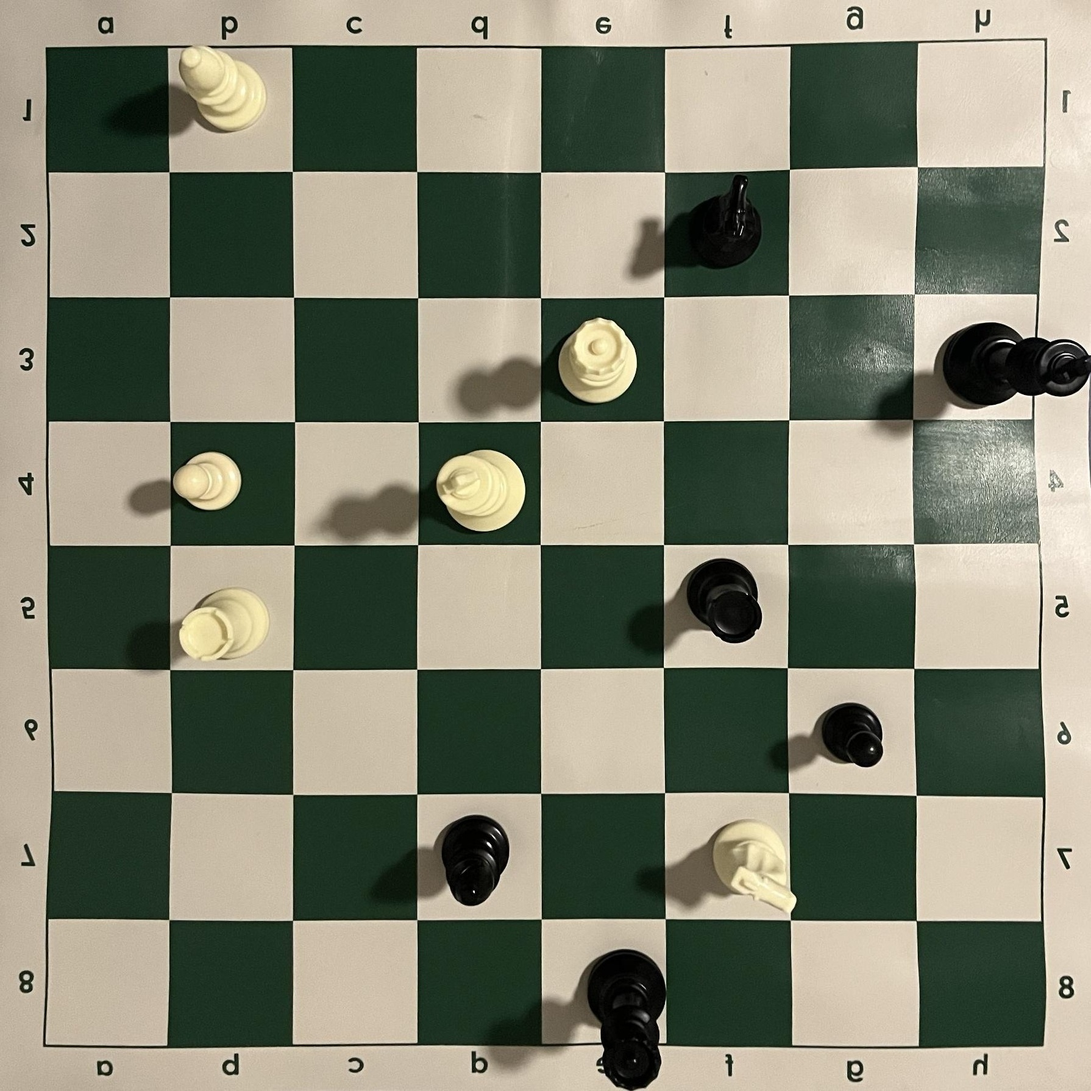black_bishop: (441, 813, 511, 908)
black_king: (944, 321, 1090, 406)
black_knight: (688, 173, 762, 271)
black_pawn: (821, 702, 884, 769)
black_queen: (585, 947, 668, 1090)
black_rook: (684, 557, 764, 644)
white_bishop: (177, 44, 268, 133)
white_king: (435, 448, 526, 533)
white_knight: (711, 818, 797, 917)
white_pawn: (172, 452, 242, 511)
white_queen: (558, 317, 639, 405)
white_rook: (178, 587, 271, 663)
